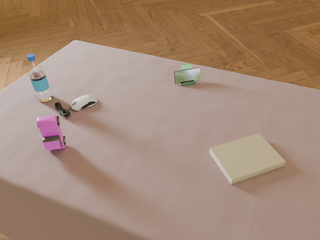book: (209, 133, 285, 184)
bottle: (27, 54, 52, 102)
mouse: (70, 95, 97, 111)
phone: (174, 68, 200, 84)
toy_car: (37, 115, 66, 150)
